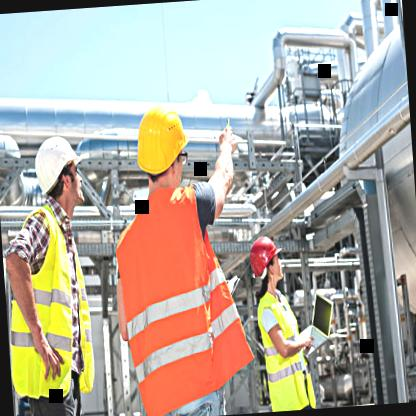helmet: (122, 102, 192, 196), (25, 124, 89, 217), (242, 227, 283, 289)
